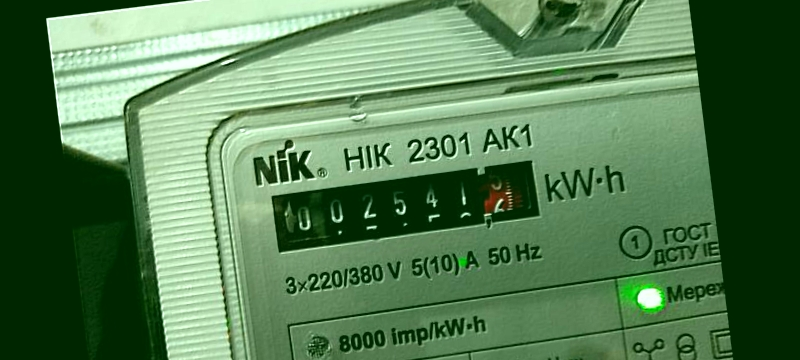0: (324, 192, 347, 227), (294, 202, 315, 233)
1: (451, 174, 471, 208)
2: (355, 187, 380, 223)
4: (420, 178, 441, 211)
5: (389, 185, 409, 219)
6: (489, 193, 507, 216)
screen: (254, 143, 563, 269)
